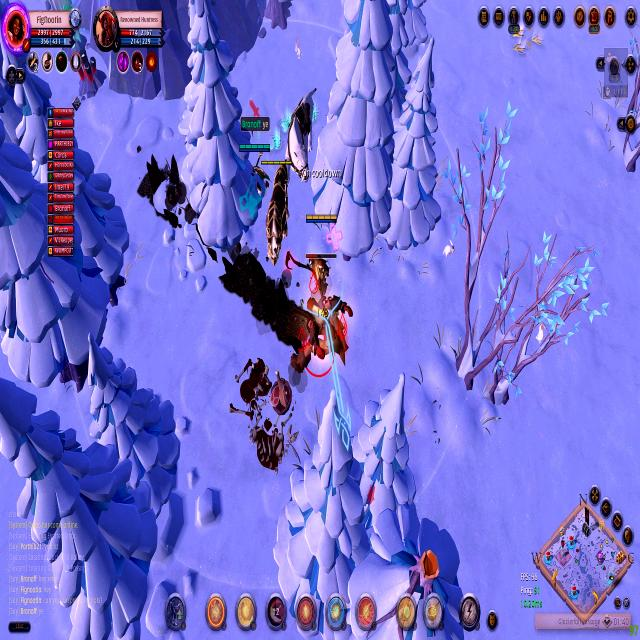ore: (290, 247, 352, 393)
player: (69, 46, 109, 109), (58, 1, 88, 65)
red: (283, 209, 340, 299), (233, 131, 272, 231)
